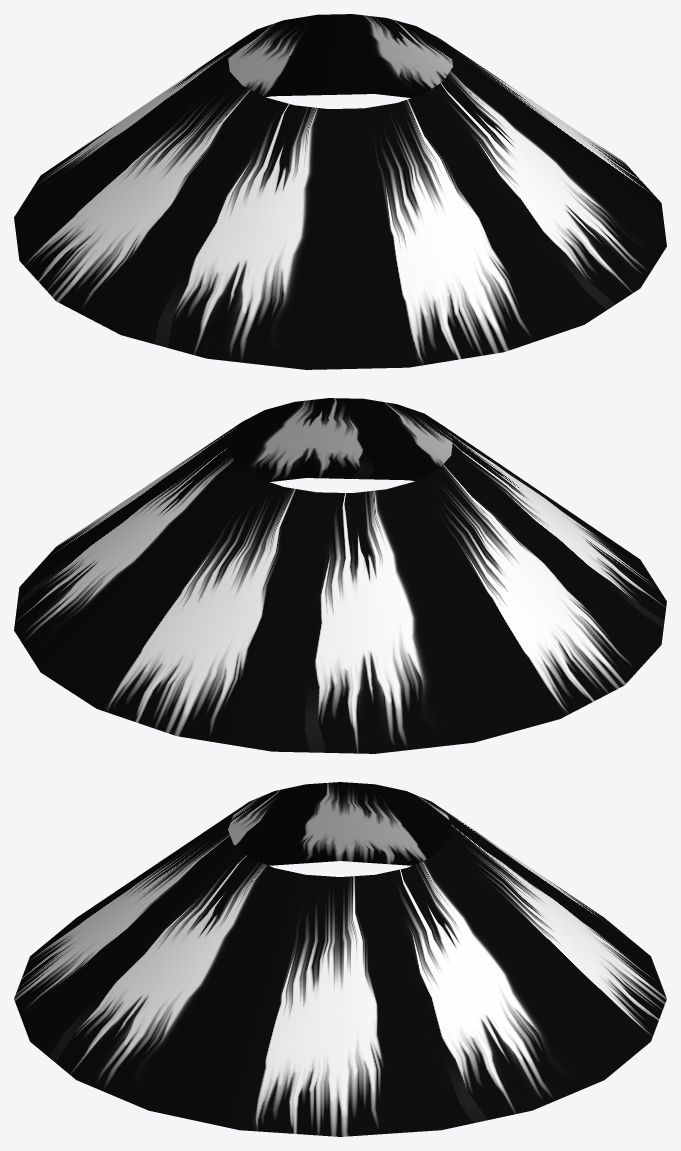
Rendered from Beaker_run02_FBX.fbx.
3 renders of one model, top to bottom at view 1: azimuth 30°, elevation 25°; view 2: azimuth 150°, elevation 25°; view 3: azimuth 270°, elevation 25°, orthographic.
Parts seen in each view (by area): view 1: pCylinder1; view 2: pCylinder1; view 3: pCylinder1.
Boxes of the visible parts, left/top/right/bottom form: pCylinder1: left=14, top=14, right=666, bottom=369; pCylinder1: left=14, top=398, right=666, bottom=753; pCylinder1: left=14, top=782, right=666, bottom=1136.
Size of the model in its own units: 13.97 by 4 by 13.97.
1 material, 1 textured.
